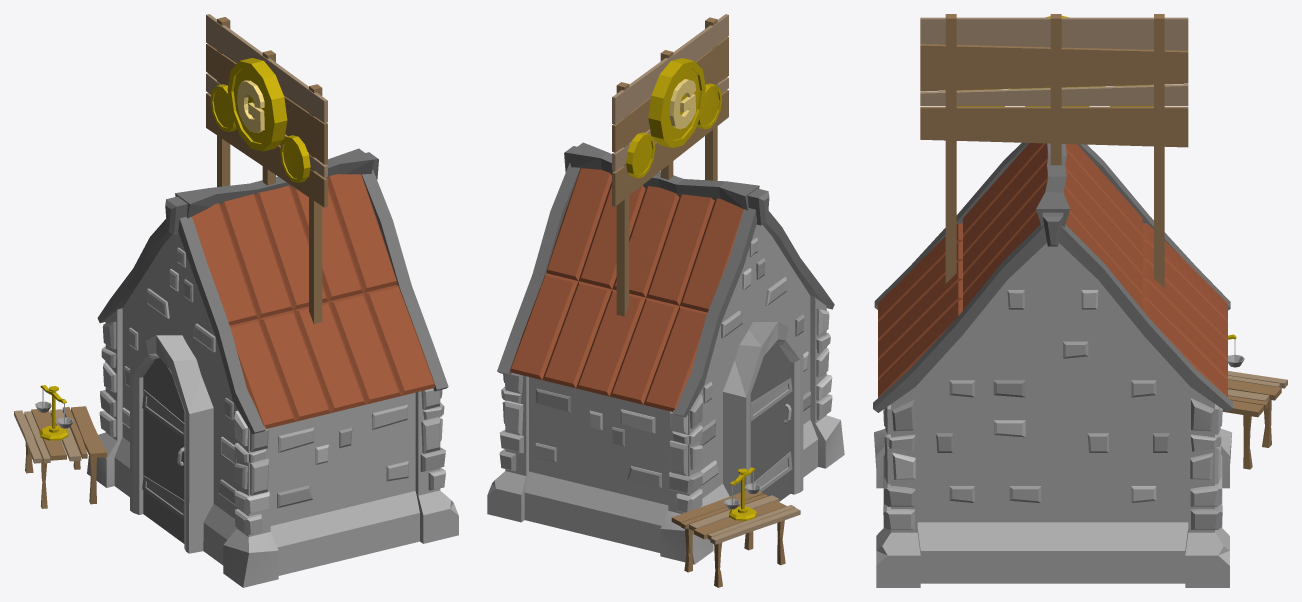
Rendered from treasurer.fbx.
3 views of the same model, side by side, from view 1: azimuth 30°, elevation 25°; view 2: azimuth 150°, elevation 25°; view 3: azimuth 270°, elevation 25° (orthographic). The views are drawn at different scales.
Parts seen in each view (by area): view 1: Treasury; view 2: Treasury; view 3: Treasury.
Part boxes in pixels (x1,y1,x2,y2): Treasury: (14,14,458,587); Treasury: (487,14,844,587); Treasury: (873,14,1287,587).
Bounding box in the file's own units: 232 × 336 × 247.
